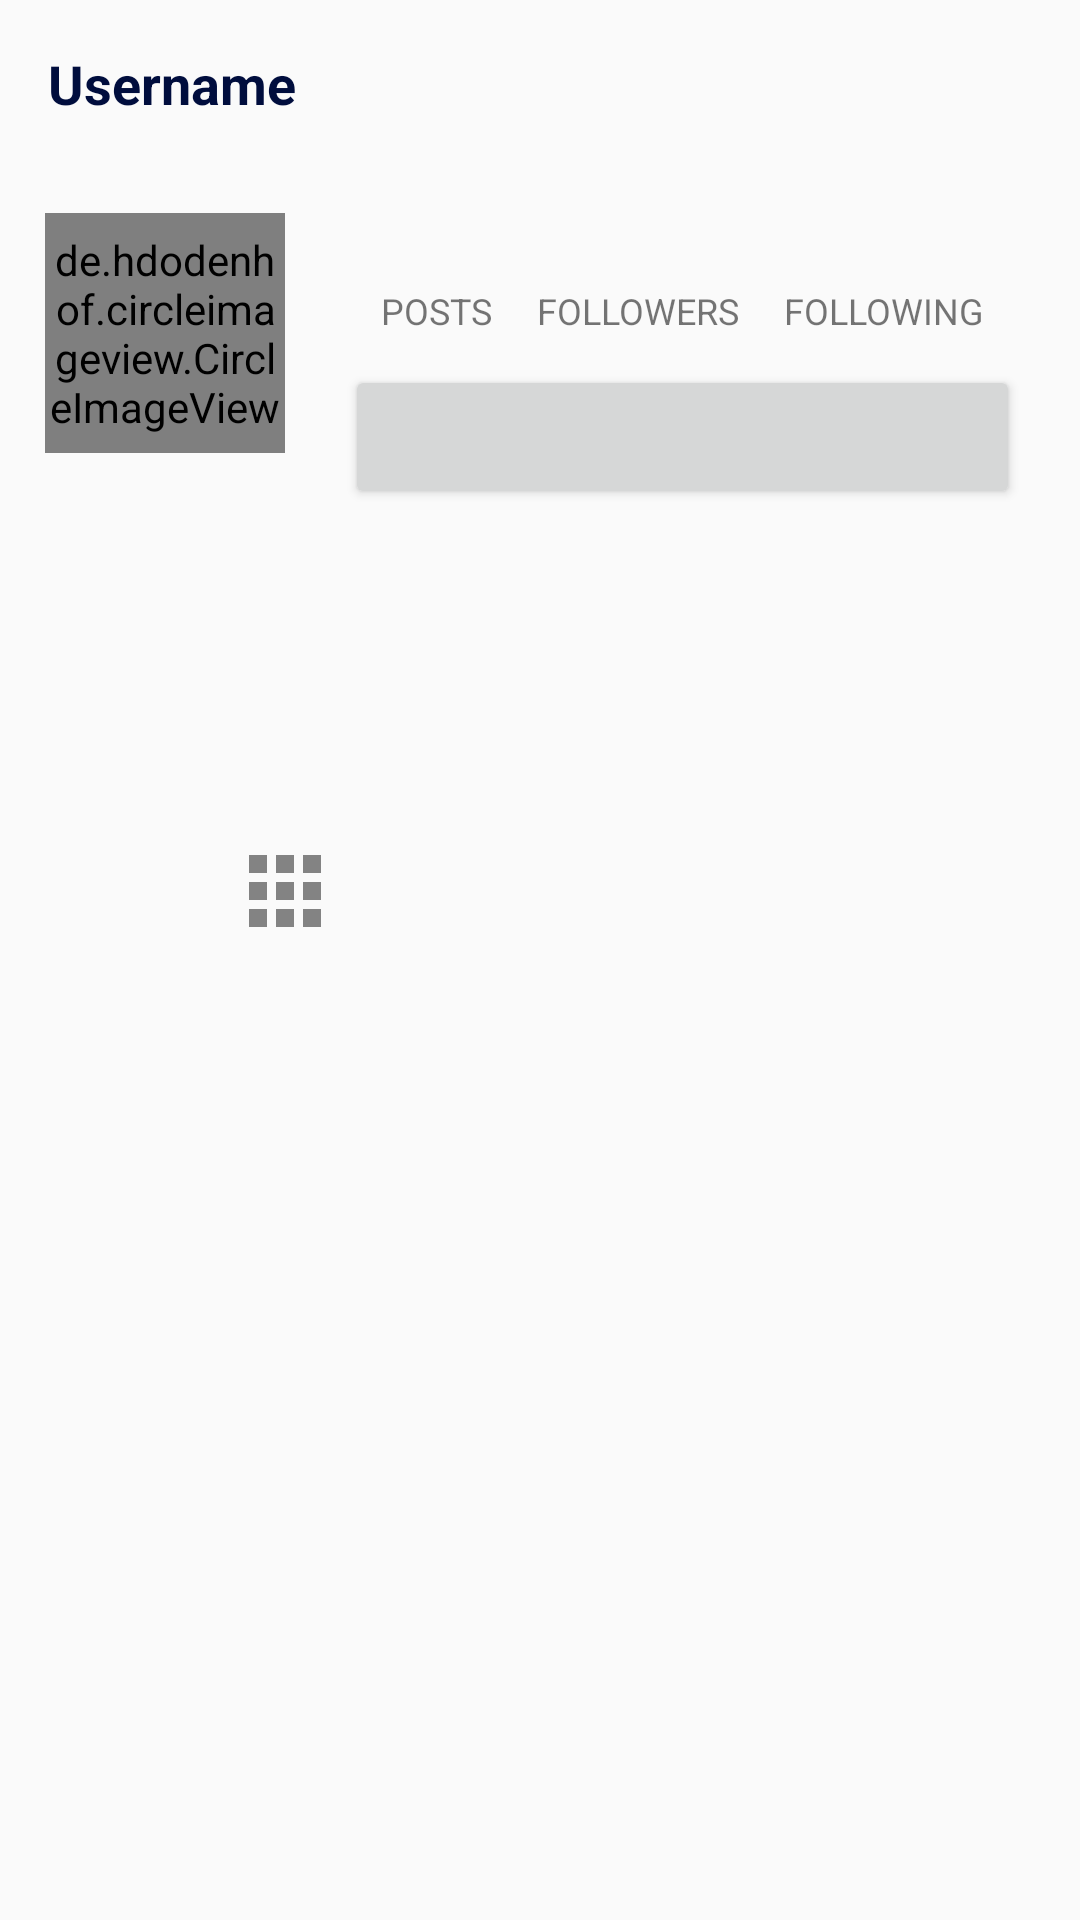

Icon click points for this 1080 x 1920 phone screenshot, format point (x, y):
pictures: point (285, 891)
